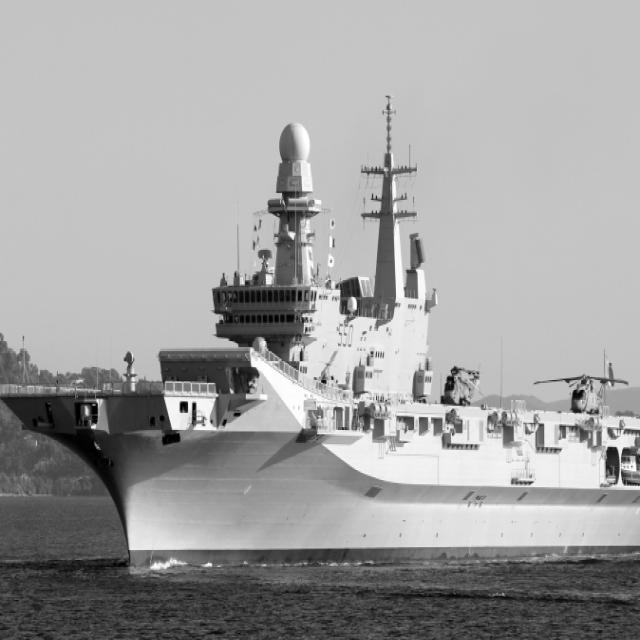Portanaves: (1, 84, 640, 575)
